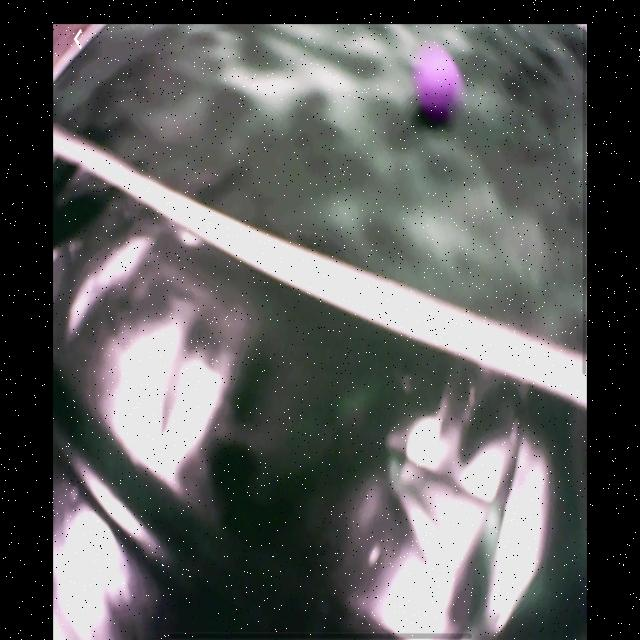ball: (411, 41, 465, 125)
